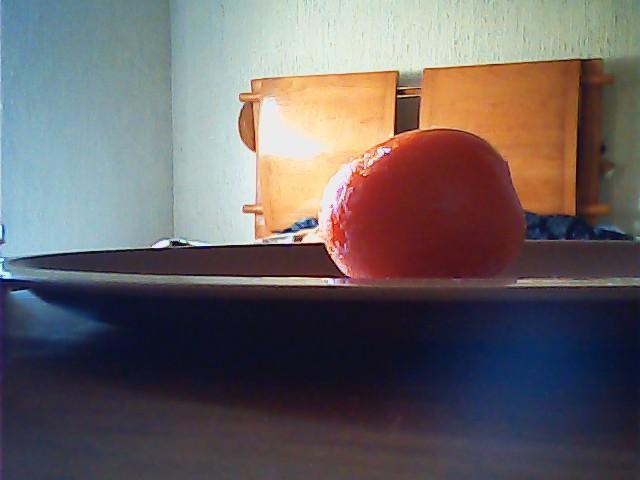maduro: (314, 127, 527, 288)
